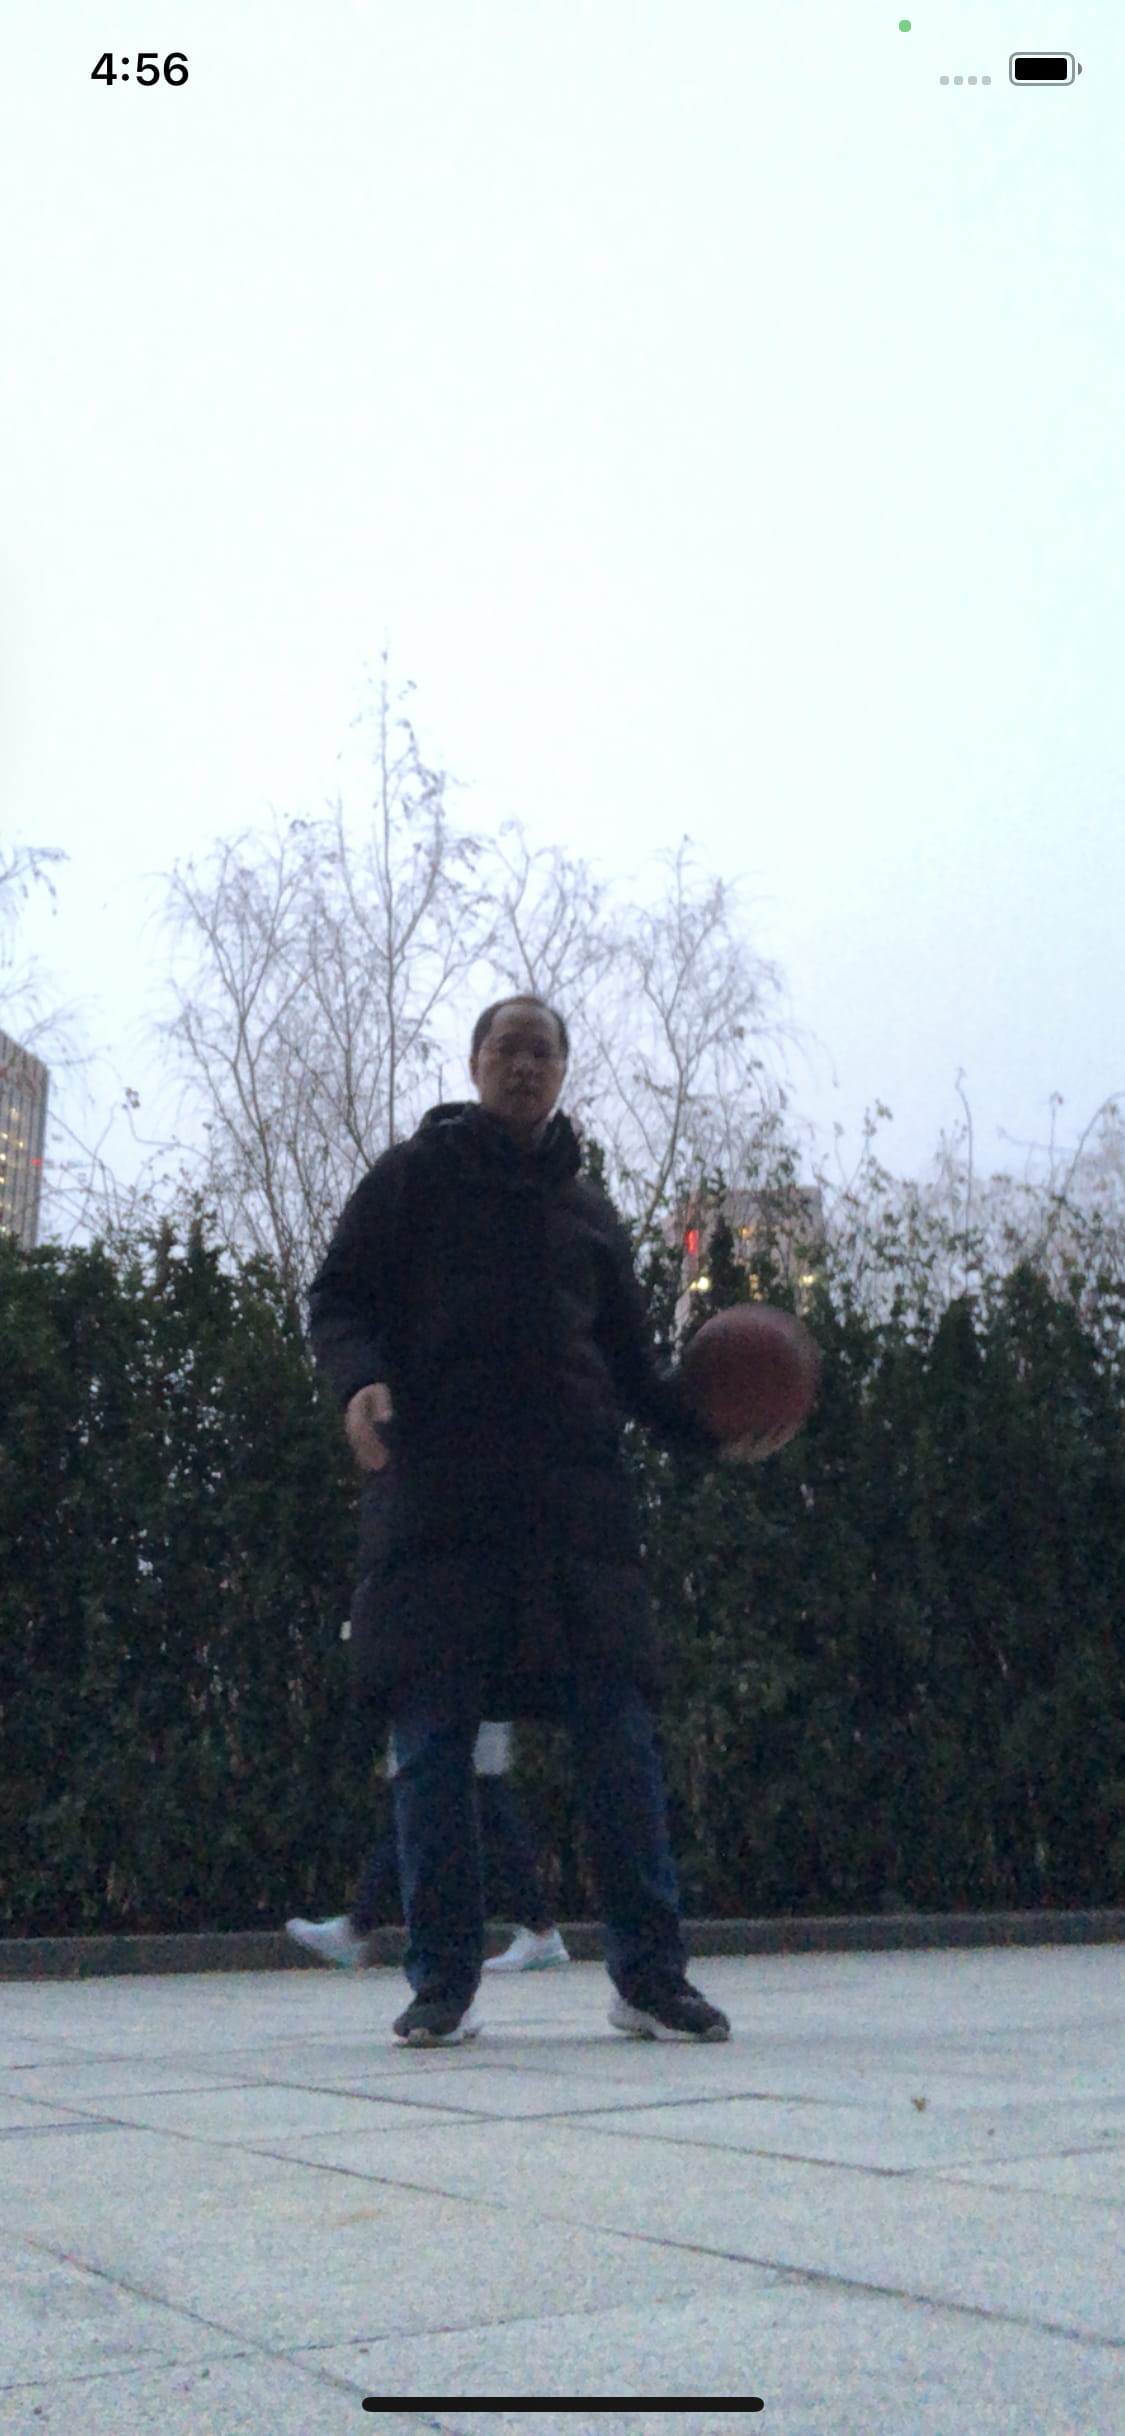ball: (685, 1302, 822, 1453)
